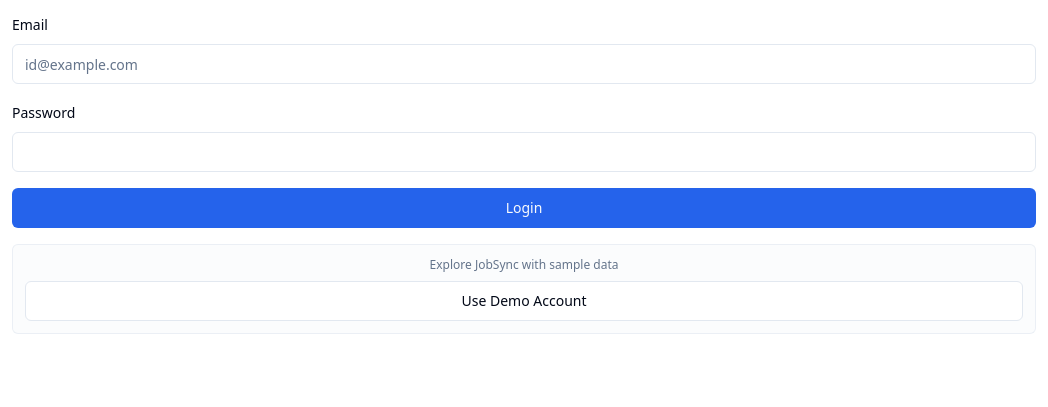
Test: SigninForm Component › should display number of characters invalid error
Type "ad" into the field labelled "Email" at (524, 64), box [12,44,1036,84]
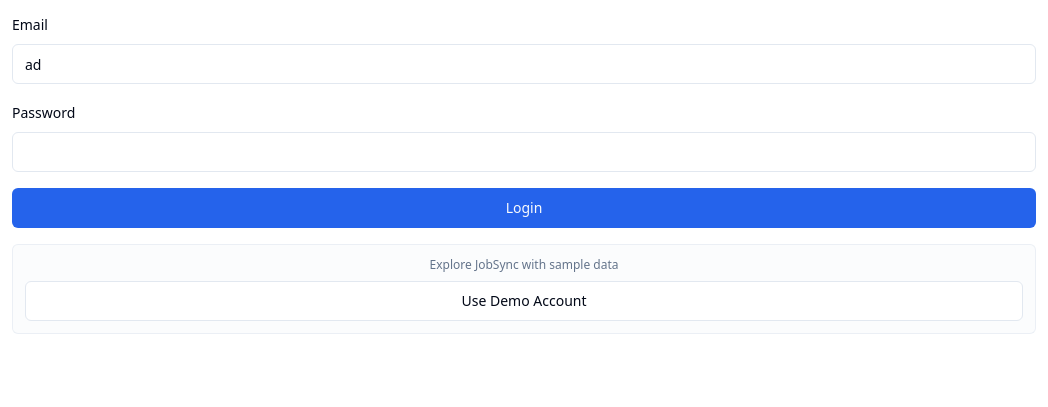
Click the button "Login" at (524, 208), box [12,188,1036,228]
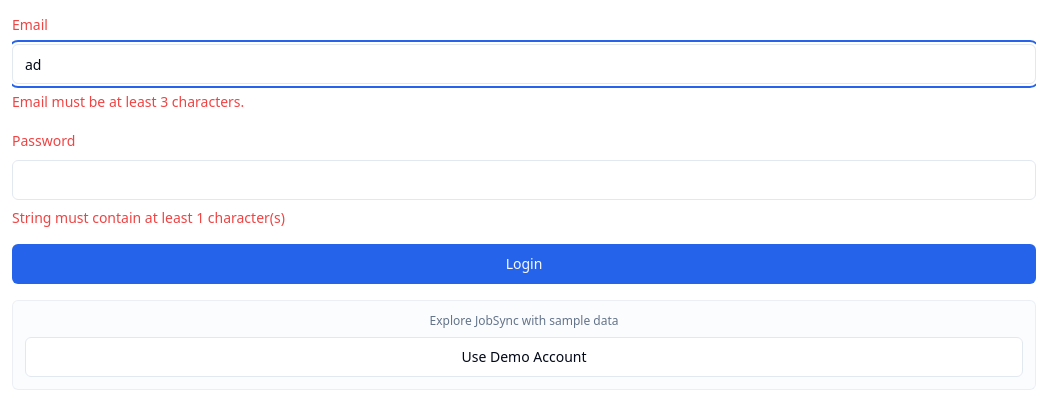
Result: the text "Email must be at least 3 characters." is shown at [12,92,244,111]
